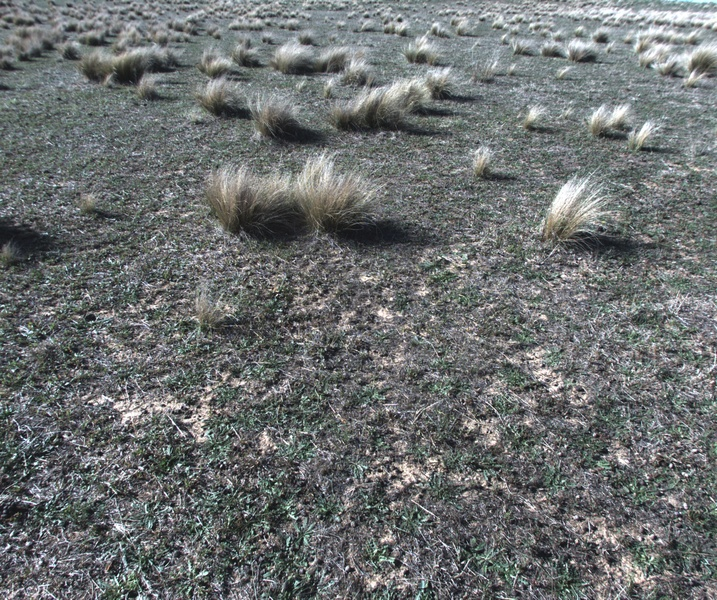st: (286, 152, 383, 236), (201, 166, 294, 234), (540, 172, 614, 246), (190, 278, 248, 333), (254, 85, 308, 141), (336, 88, 385, 133), (387, 76, 429, 115), (275, 38, 320, 73), (468, 144, 501, 189), (77, 49, 114, 89), (624, 116, 665, 152), (69, 183, 112, 217), (198, 80, 233, 120), (422, 64, 455, 102), (341, 57, 374, 94), (399, 38, 442, 66), (143, 46, 183, 76), (196, 45, 232, 78), (517, 99, 547, 137), (113, 48, 143, 82), (233, 33, 261, 69), (468, 52, 500, 83), (119, 25, 154, 51), (568, 40, 601, 66), (684, 49, 717, 74), (136, 73, 165, 101), (654, 51, 681, 81), (508, 35, 541, 59), (639, 41, 666, 69), (609, 101, 636, 128), (317, 47, 347, 71), (590, 103, 607, 140), (585, 24, 613, 46), (542, 40, 570, 61), (319, 72, 343, 96), (79, 27, 106, 47), (456, 15, 477, 39), (427, 21, 452, 41), (24, 34, 46, 56), (682, 29, 703, 51), (7, 37, 26, 60), (490, 5, 507, 30), (153, 29, 172, 50), (61, 43, 81, 62), (40, 28, 58, 49), (393, 20, 409, 41), (281, 18, 301, 34), (554, 64, 572, 79), (1, 56, 16, 71), (572, 24, 587, 39), (380, 20, 392, 38), (505, 59, 518, 74), (208, 25, 222, 38)
